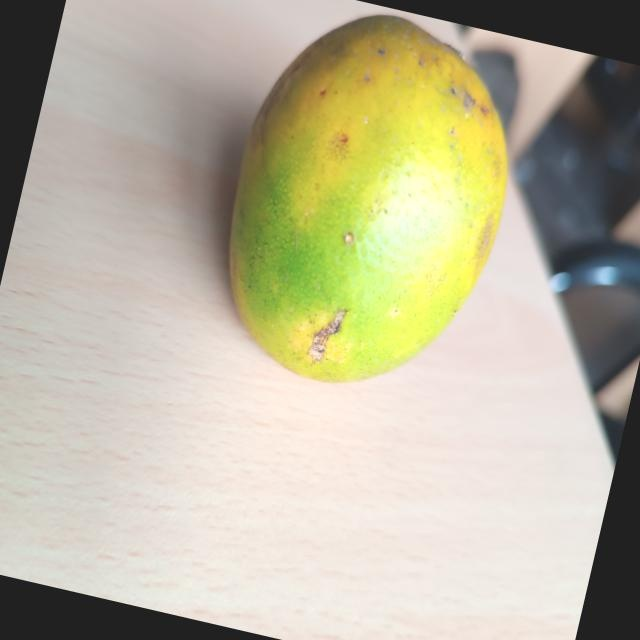agrume: (183, 0, 548, 414)
